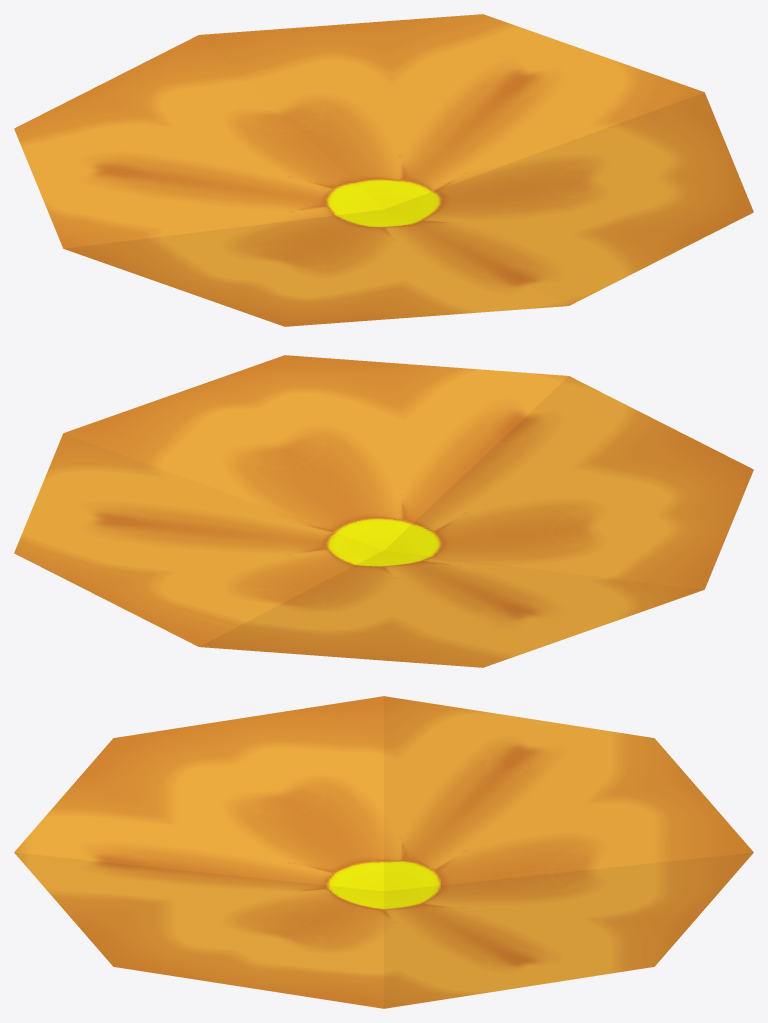
The model's file is SM_Flower_Var3.fbx.
3 renders of one model, top to bottom at view 1: azimuth 30°, elevation 25°; view 2: azimuth 150°, elevation 25°; view 3: azimuth 270°, elevation 25°, orthographic.
Visible parts, largest first — view 1: SM_Flower_Var3; view 2: SM_Flower_Var3; view 3: SM_Flower_Var3.
Boxes of the visible parts, bbox=[...] form: SM_Flower_Var3: bbox=[14, 14, 753, 326]; SM_Flower_Var3: bbox=[14, 355, 753, 667]; SM_Flower_Var3: bbox=[14, 696, 753, 1008].
Bounding box in the file's own units: 70 × 4.06 × 70.
1 material, 1 textured.
